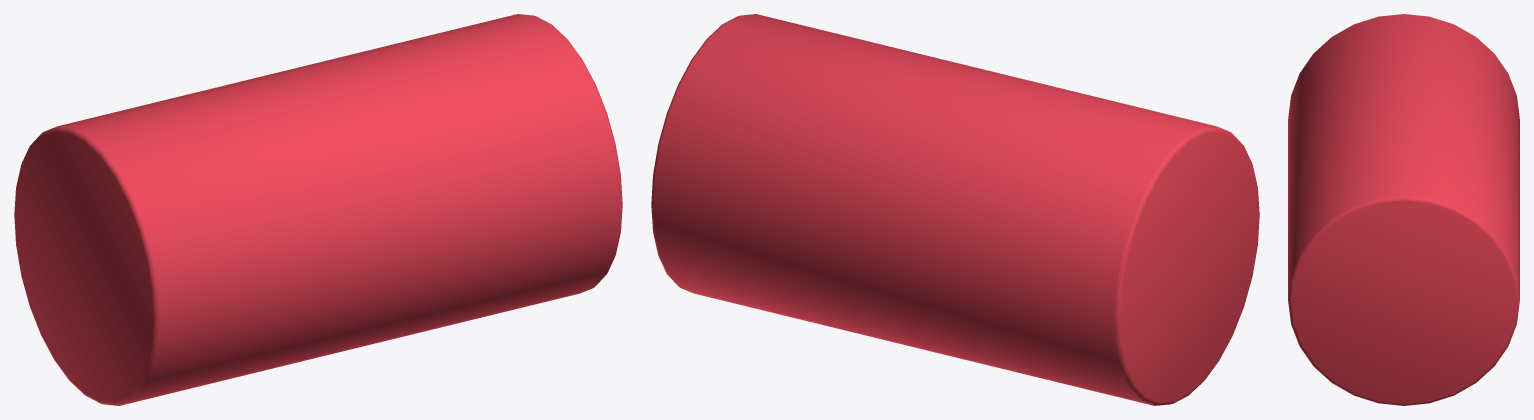
The model's file is Prop_Crushed_SodaCan.fbx.
The picture shows the model from 3 angles, left to right: view 1: azimuth 30°, elevation 25°; view 2: azimuth 150°, elevation 25°; view 3: azimuth 270°, elevation 25°; orthographic projection. The views are drawn at different scales.
Visible parts, largest first — view 1: SodaCan_Body; view 2: SodaCan_Body; view 3: SodaCan_Body.
Part boxes in pixels (x1,y1,x2,y2): SodaCan_Body: (14, 14, 622, 405); SodaCan_Body: (651, 14, 1259, 405); SodaCan_Body: (1288, 14, 1519, 405).
Bounding box in the file's own units: 3.4 × 1.8 × 1.8.
